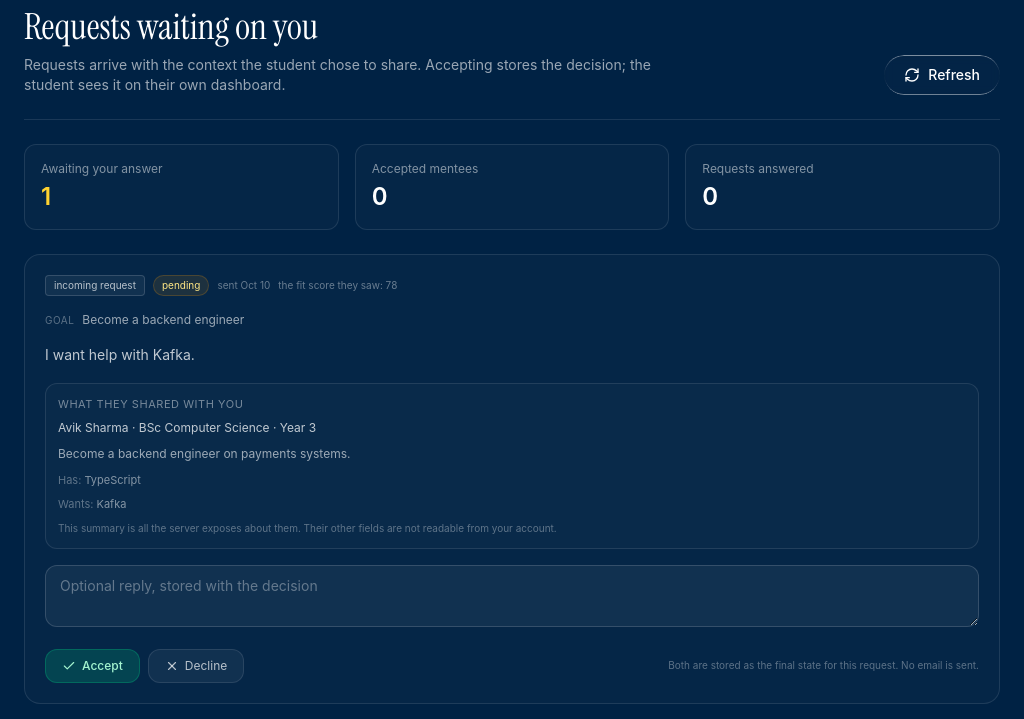
MentorInbox › shows a refused transition as an error
(page scrolled)
Expected: the text "Avik Sharma · BSc Computer Science · Year 3" is shown, 58,420 -> 316,435
Click the button "Decline". click: (196, 666)
box: 148,649 -> 244,683
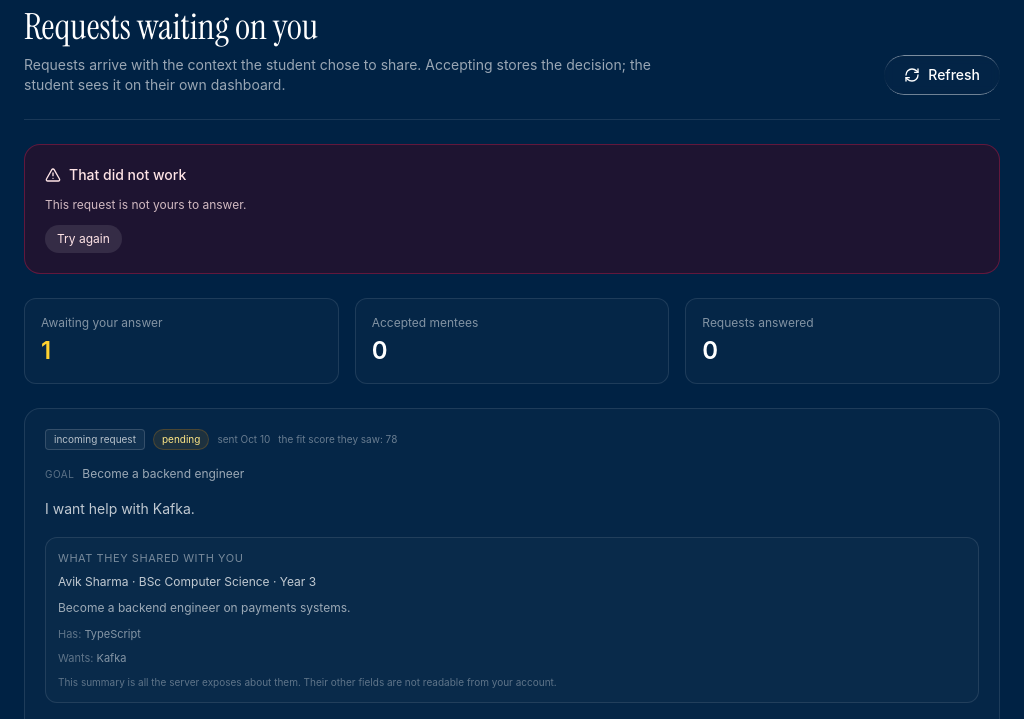
Expected: the text "That did not work" is shown, 69,165 -> 186,185
Expected: the text "This request is not yours to answer." is shown, 45,197 -> 246,212
